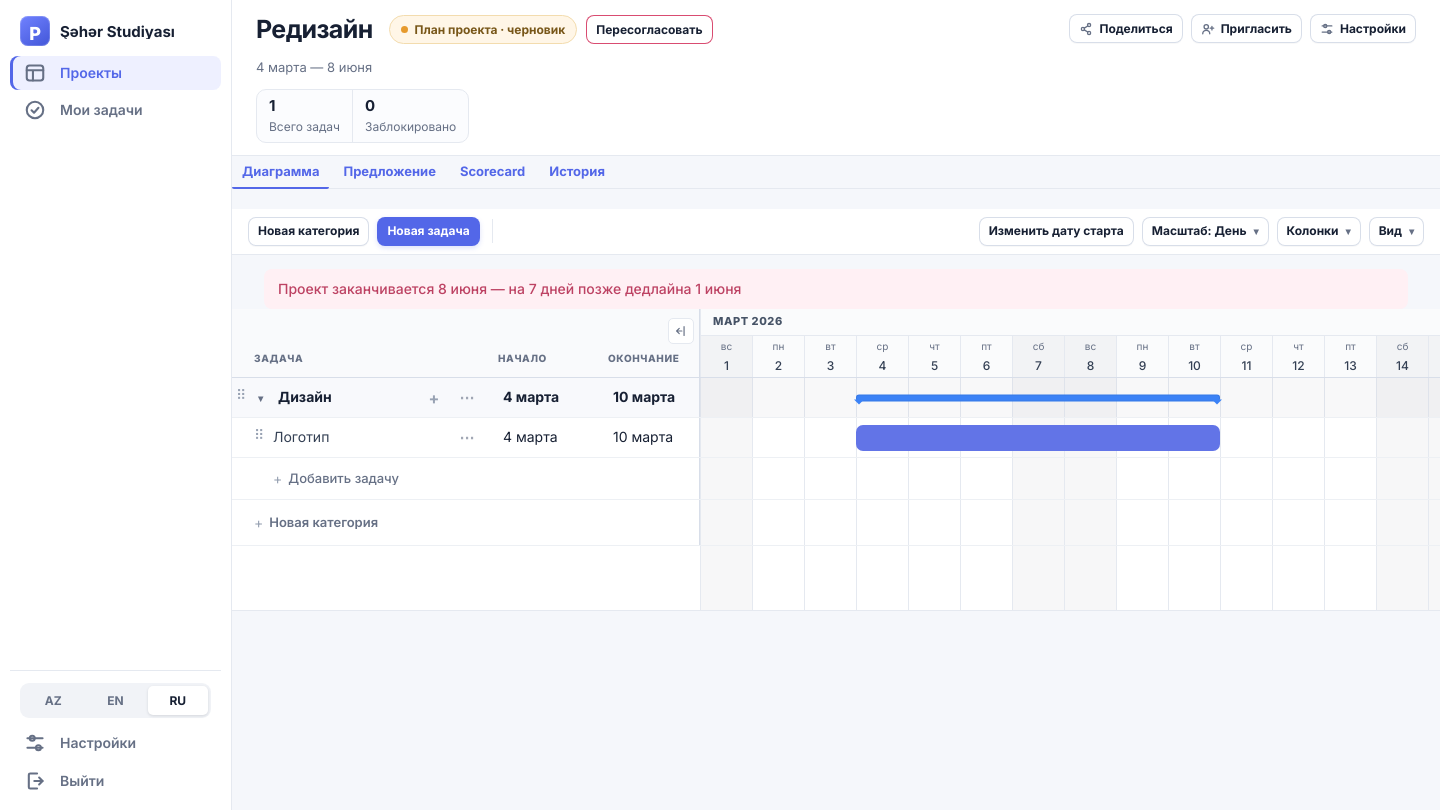
Test case: создание категории › объясняет отказ сервера переведённым текстом, а не кодом
Click the button "Новая категория": (309, 231) [248, 217, 369, 246]
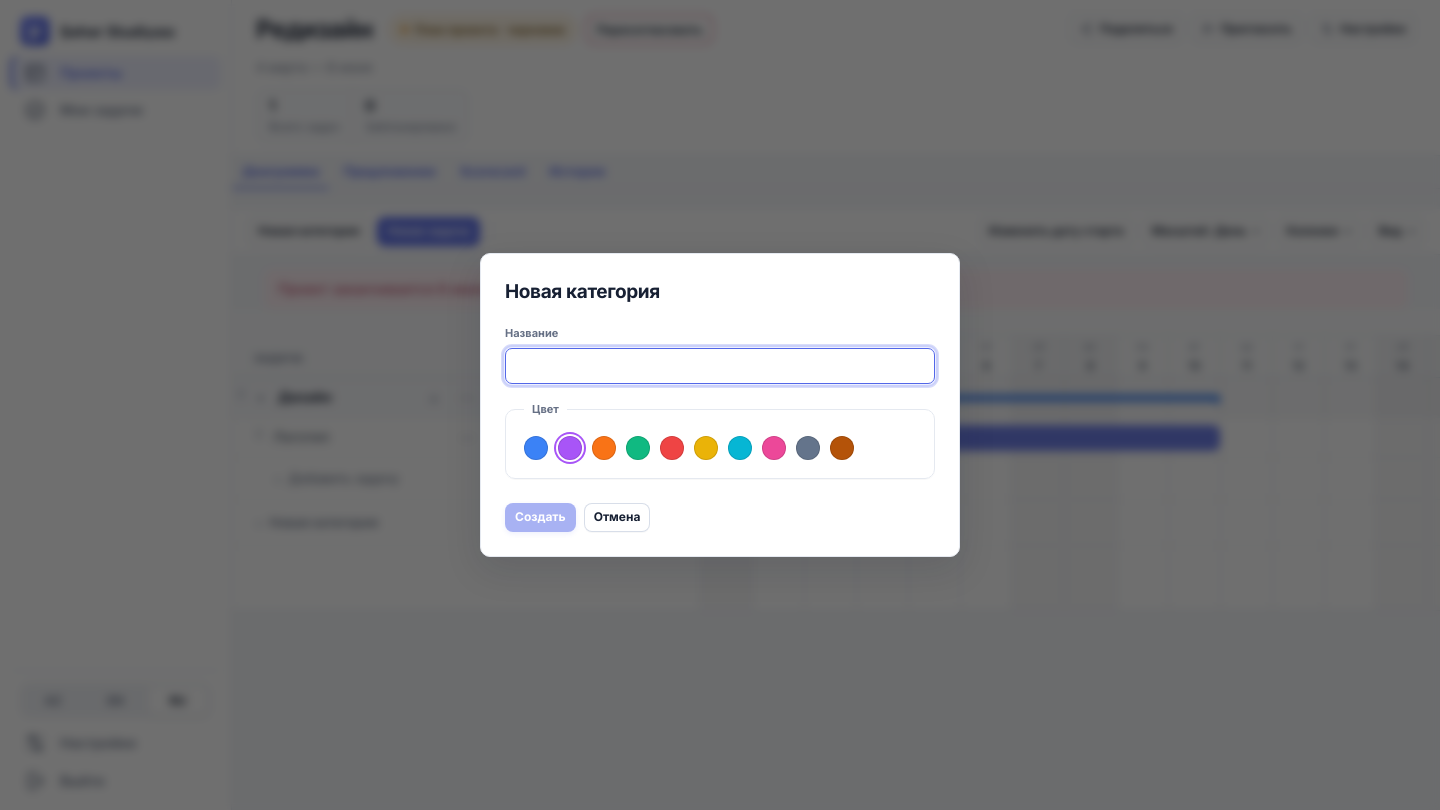
In the field labelled "Название": (720, 366) [505, 348, 935, 384], type "Аналитика"
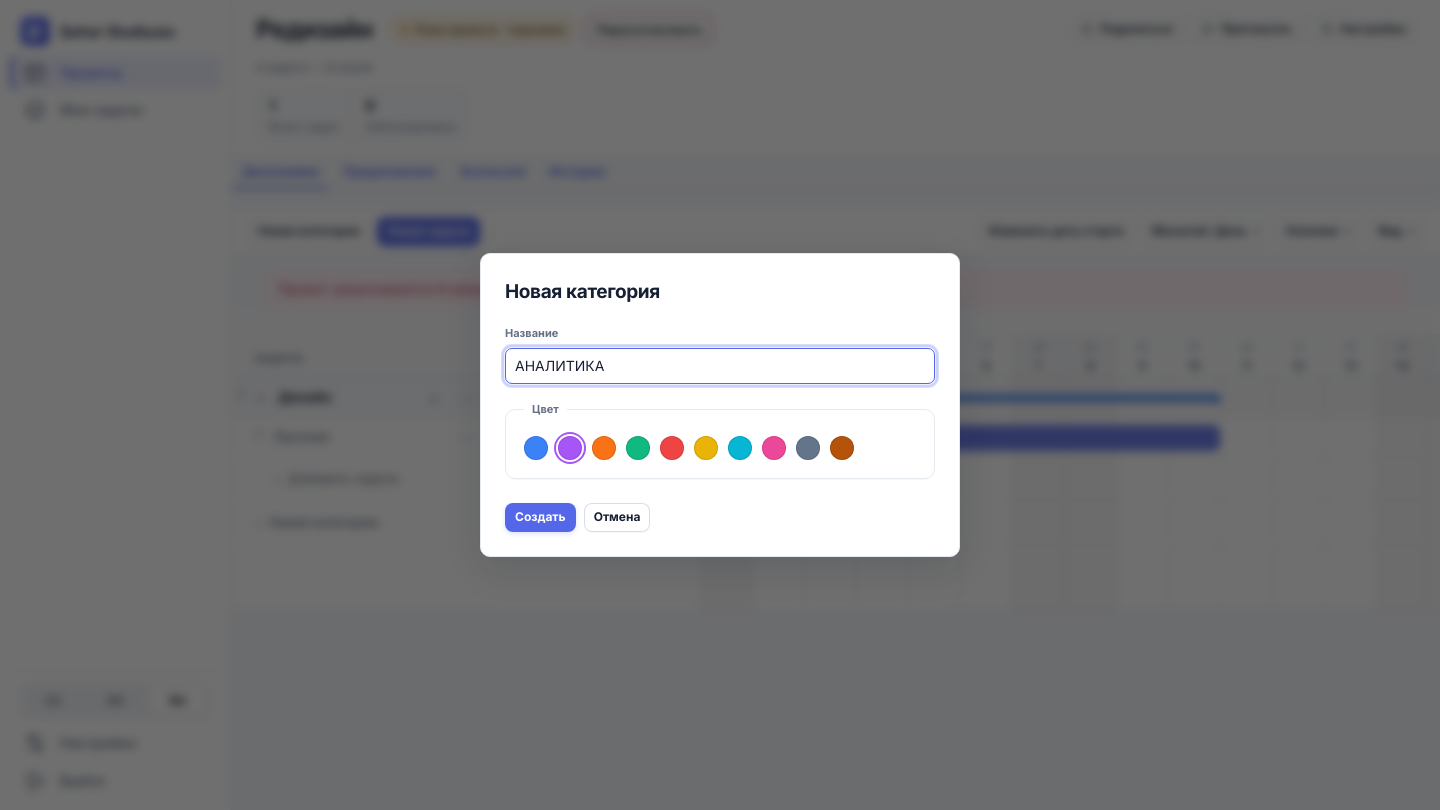
Click the button "Создать": (540, 517) [505, 503, 576, 532]
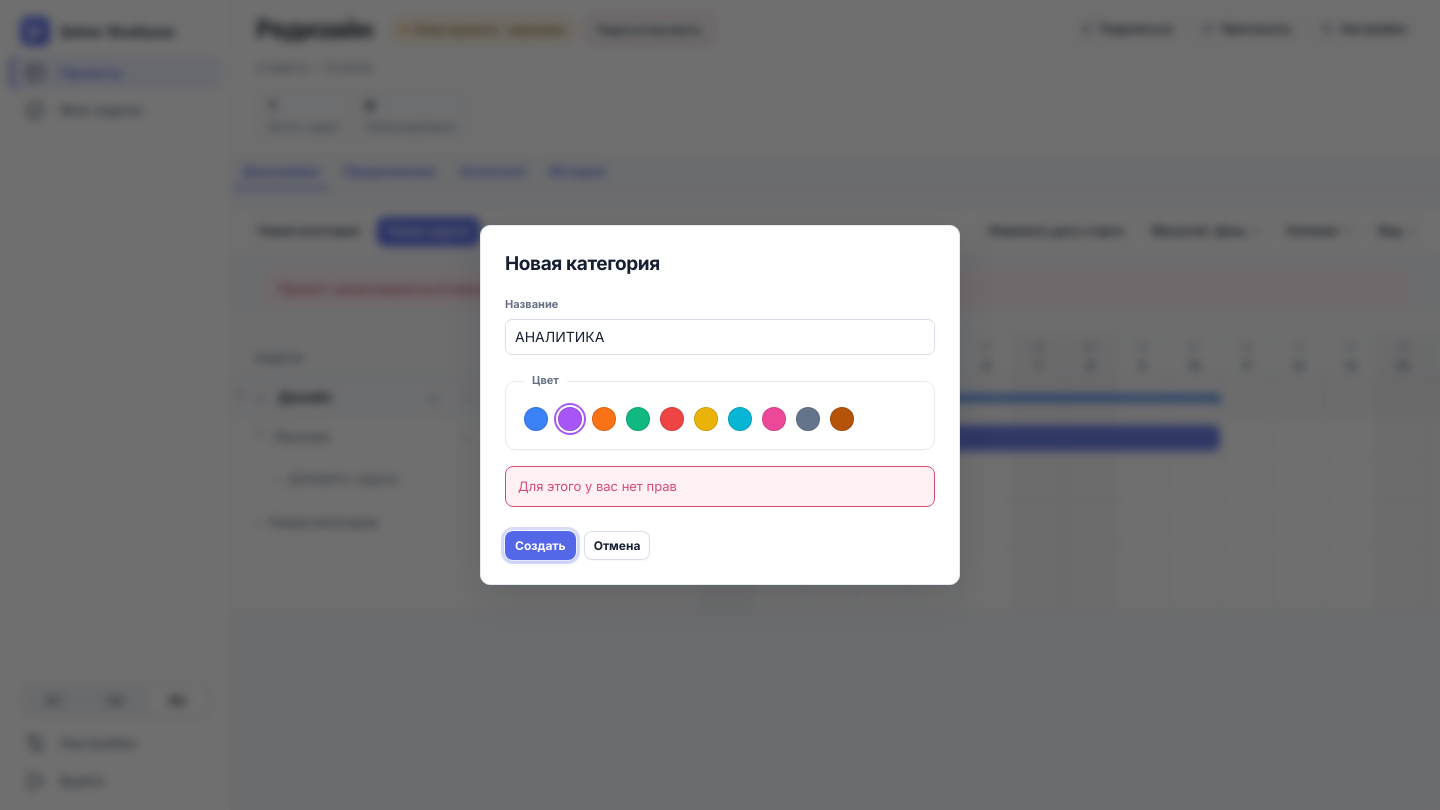
Now the text "Для этого у вас нет прав" is shown, box [505, 466, 935, 507]
